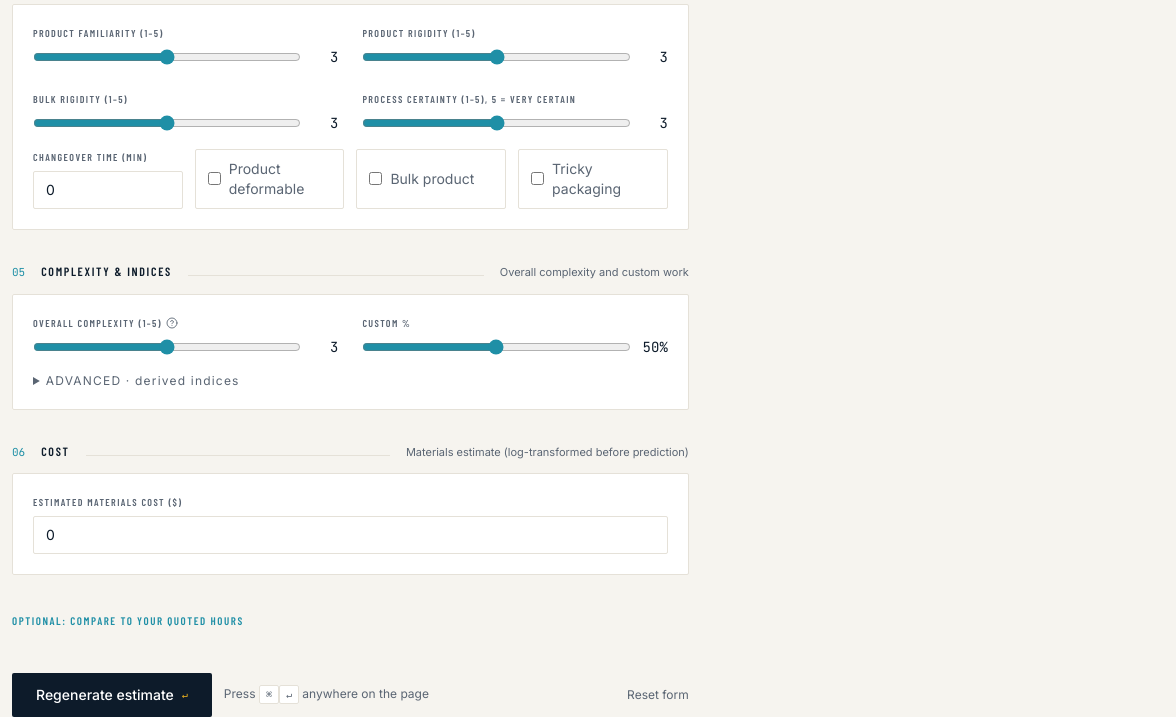
Scenario: ComparisonQuote - form submit calls predictQuote('real') › renders 'Most similar past projects' label in QuoteResultPanel
(page scrolled)
Click the button "Regenerate estimate ↵".
click(112, 695)  # box left=12, top=673, right=212, bottom=716
(page scrolled)
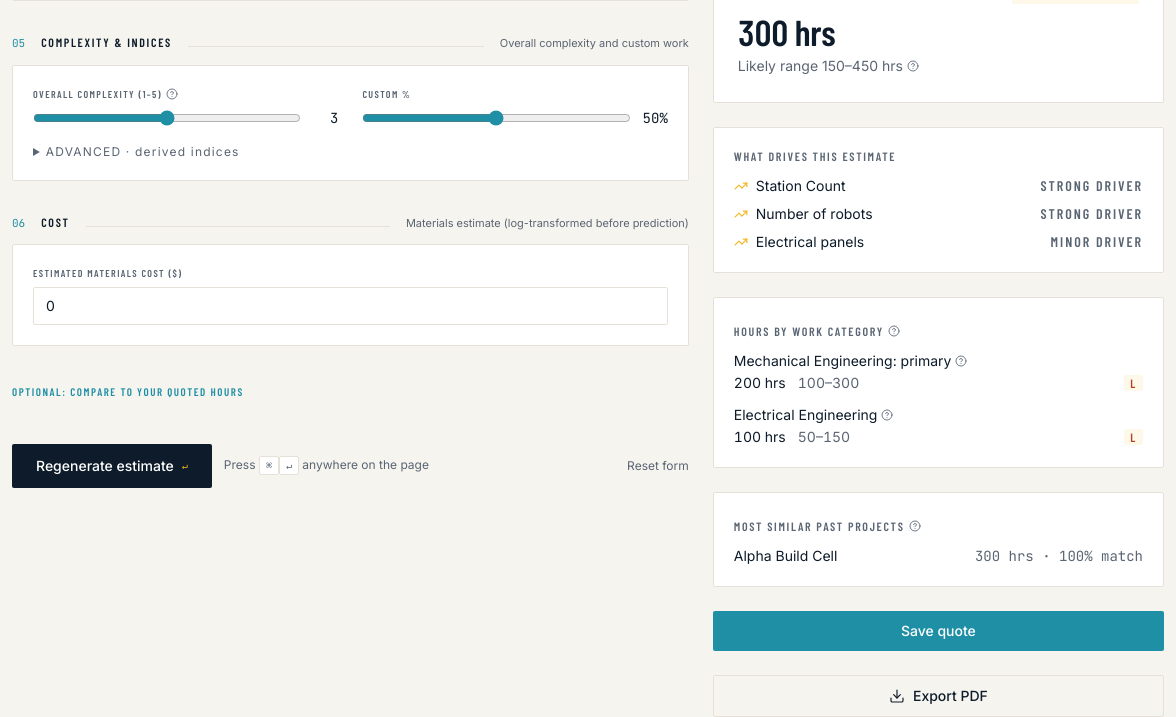
Check: the text "Most similar past projects" is shown, box left=734, top=518, right=905, bottom=534
